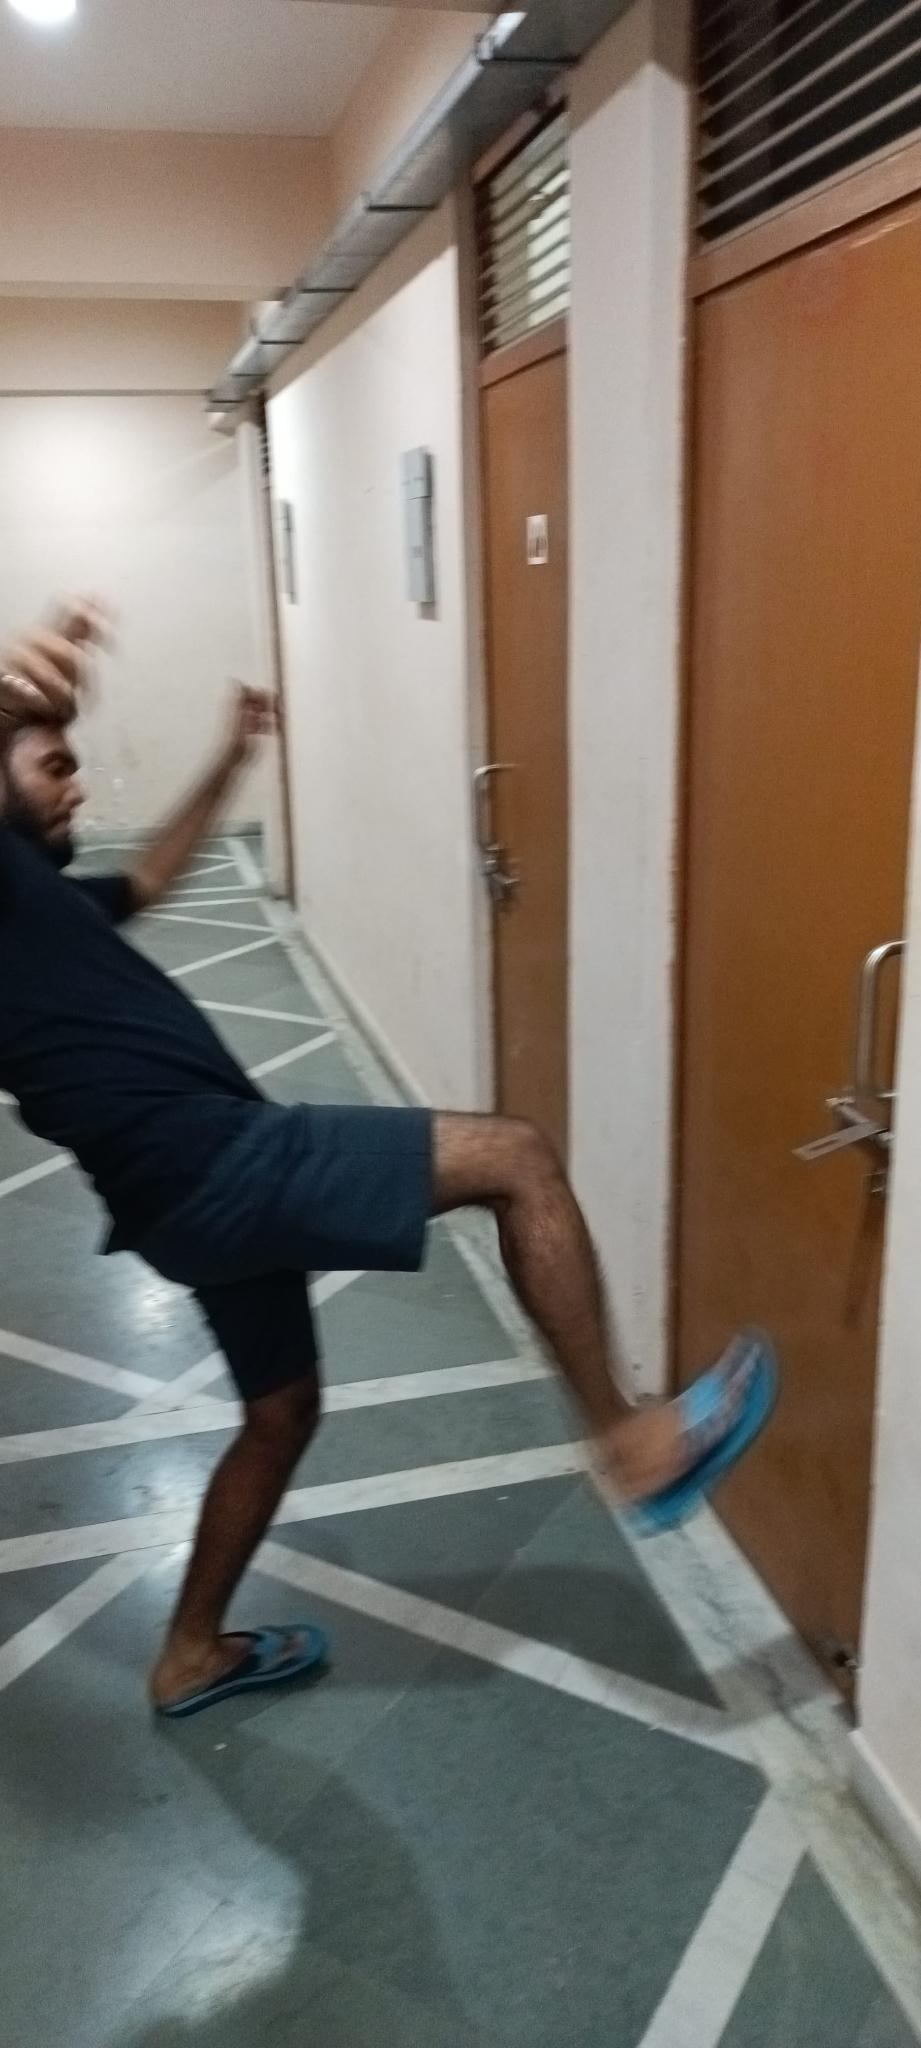suspicion: (0, 526, 921, 1826)
